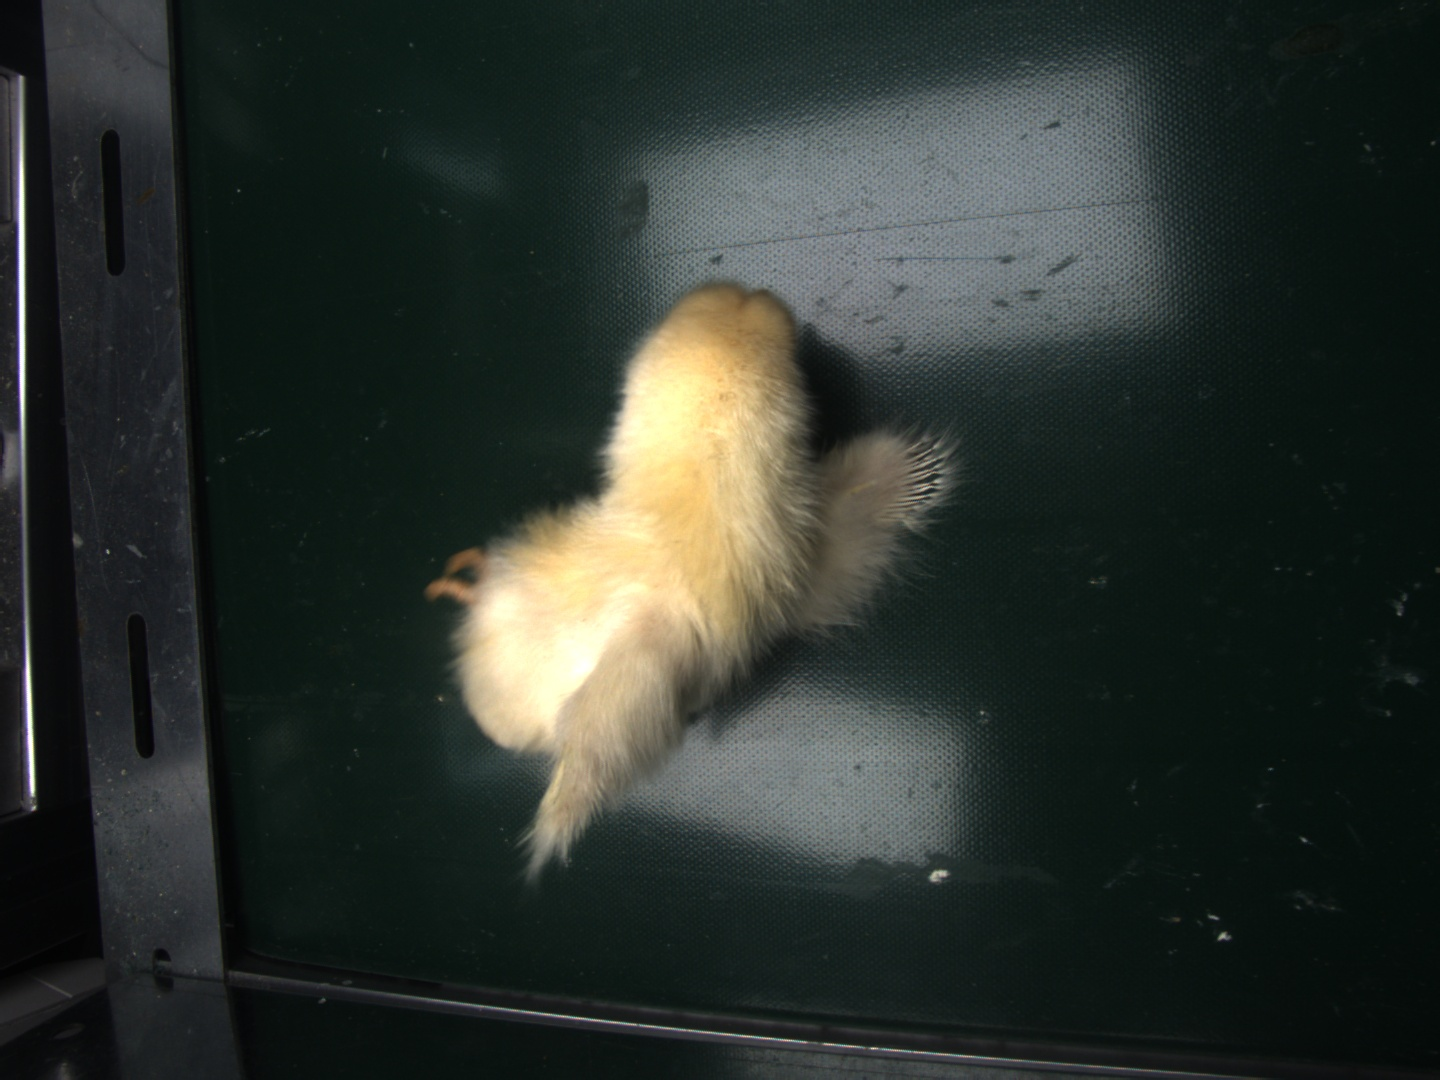male: (893, 441, 948, 518)
